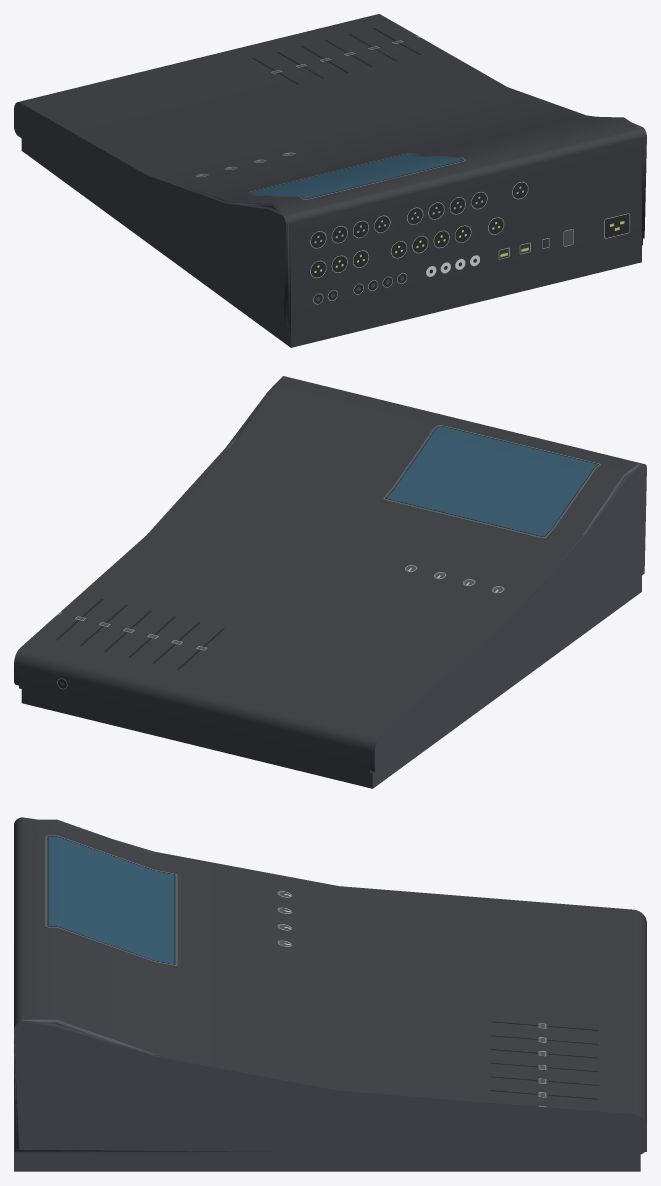
The model's file is presonus-studiolive-iii-se-16.glb.
3 views of the same model, one above another, from view 1: azimuth 30°, elevation 25°; view 2: azimuth 150°, elevation 25°; view 3: azimuth 270°, elevation 25° (orthographic). The views are drawn at different scales.
Parts seen in each view (by area): view 1: presonus-studiolive-iii-se-16-body; view 2: presonus-studiolive-iii-se-16-body; view 3: presonus-studiolive-iii-se-16-body.
Part boxes in pixels (box(x1,y1,x2,y2)): presonus-studiolive-iii-se-16-body: box(14, 14, 646, 347); presonus-studiolive-iii-se-16-body: box(14, 376, 646, 788); presonus-studiolive-iii-se-16-body: box(14, 817, 646, 1171).
Bounding box in the file's own units: 0.447 × 0.165 × 0.584.
Materials: 1 (1 with a texture image).
